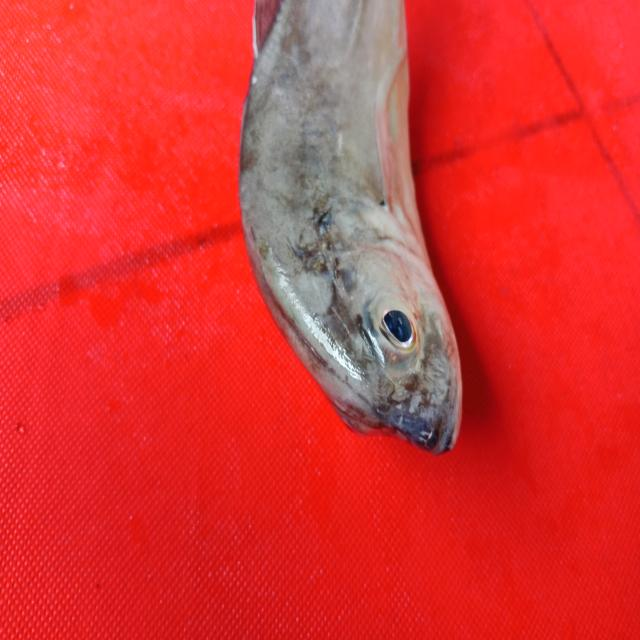ikan: (219, 0, 492, 472)
